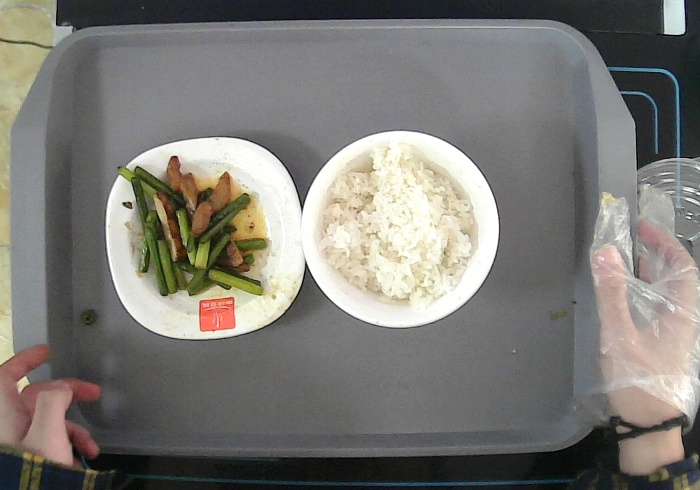SHKJ-Bai_Se_Si_Fang_Cai_Die: (105, 137, 307, 340)
SHKJ-Fan_Wan: (301, 130, 501, 329)
